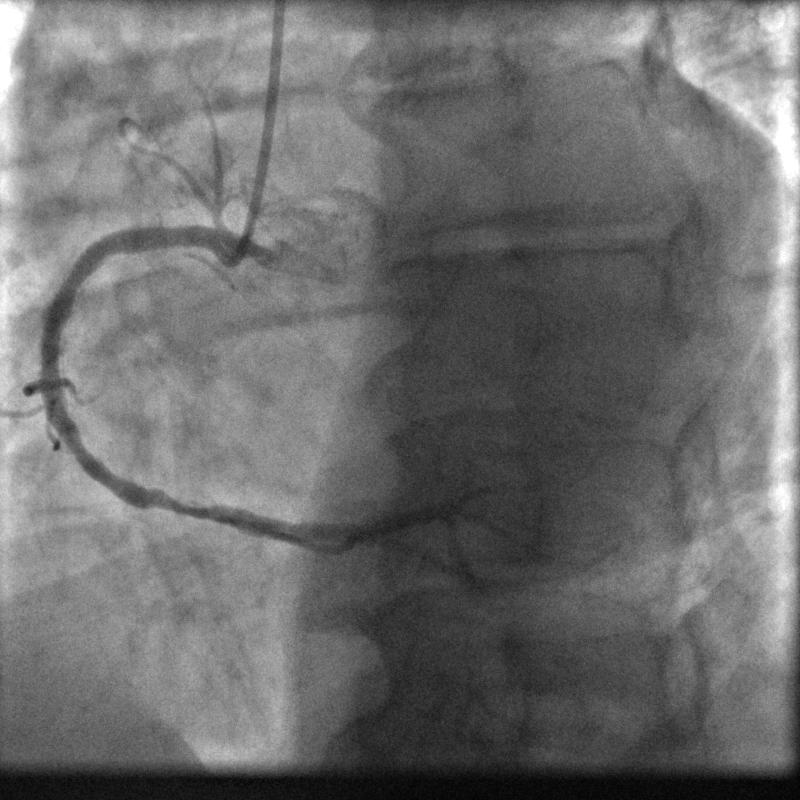Stenosis: (141, 482, 211, 523)
